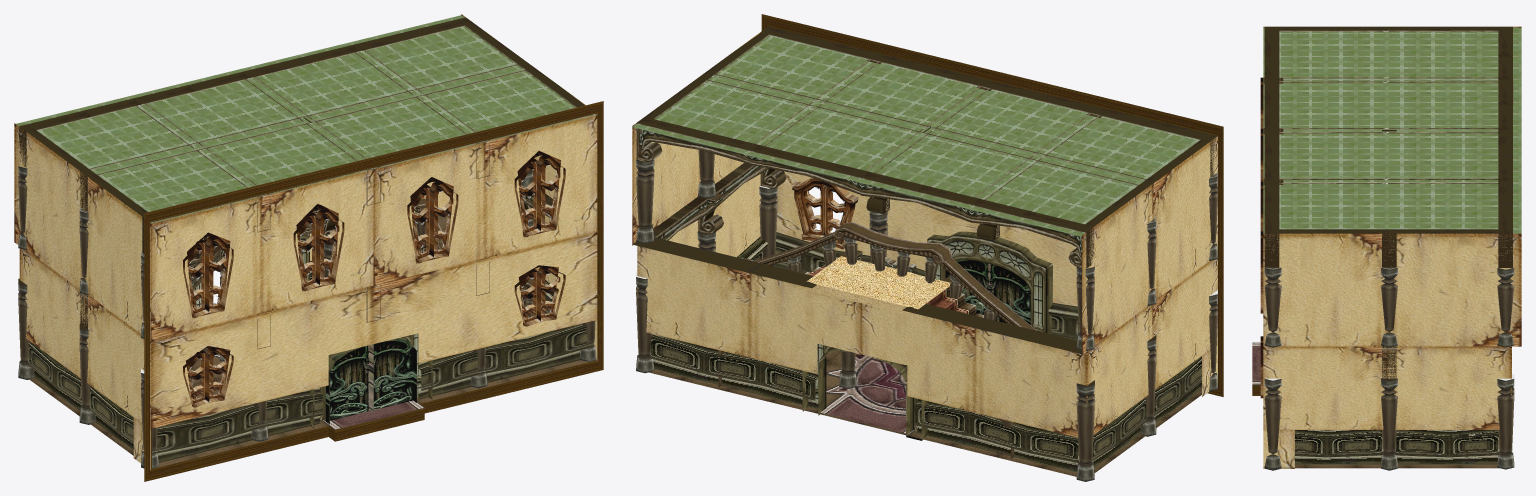
File: room_02.glb
3 views of the same model, side by side, from view 1: azimuth 30°, elevation 25°; view 2: azimuth 150°, elevation 25°; view 3: azimuth 270°, elevation 25° (orthographic). The views are drawn at different scales.
Parts seen in each view (by area): view 1: room_02; view 2: room_02; view 3: room_02.
Boxes of the visible parts, x1=… form: room_02: x1=14, y1=14, x2=603, y2=481; room_02: x1=632, y1=14, x2=1223, y2=481; room_02: x1=1252, y1=26, x2=1521, y2=470.
Bounding box in the file's own units: 2055 × 1150 × 1100.
30 materials, 29 textured.
